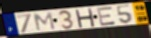3: (58, 9, 75, 31)
5: (115, 4, 134, 25)
7: (16, 14, 32, 34)
E: (96, 6, 118, 26)
H: (75, 8, 97, 28)
M: (33, 12, 57, 31)
